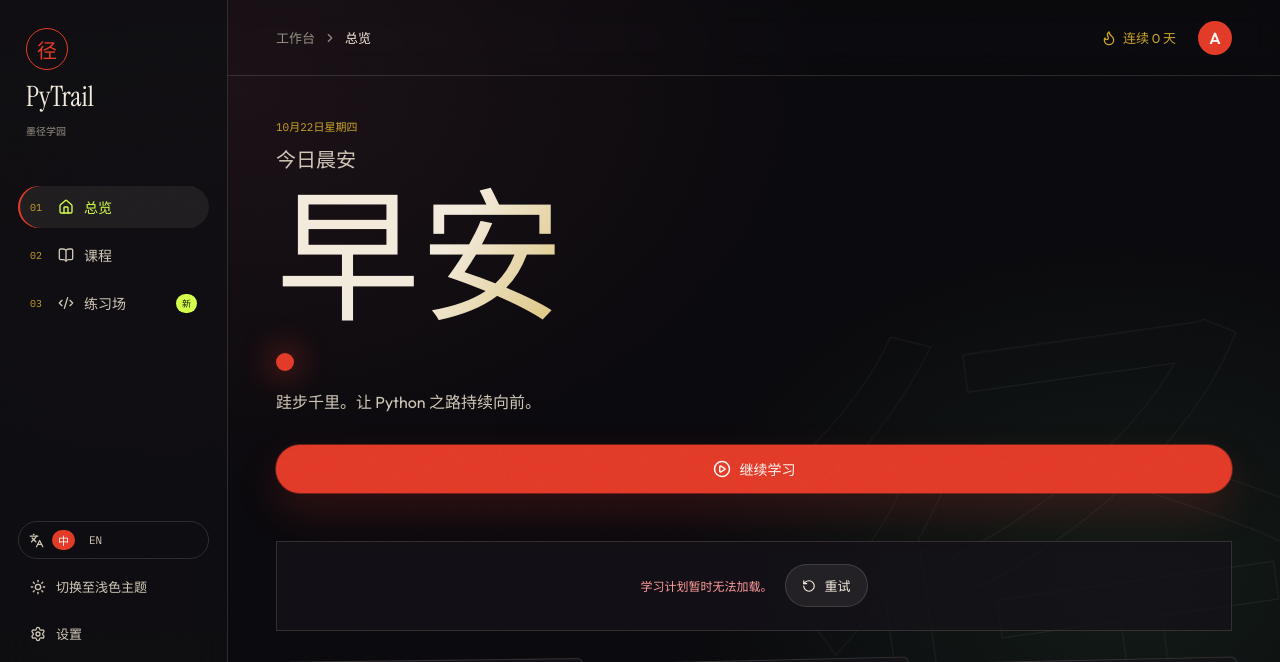
Test case: on-demand course and lesson workflow › retries a failed dashboard request
Expected: the text "学习计划暂时无法加载。" is shown, left=640, top=577, right=772, bottom=594
Click the button "重试" at (826, 586), box left=784, top=564, right=868, bottom=607
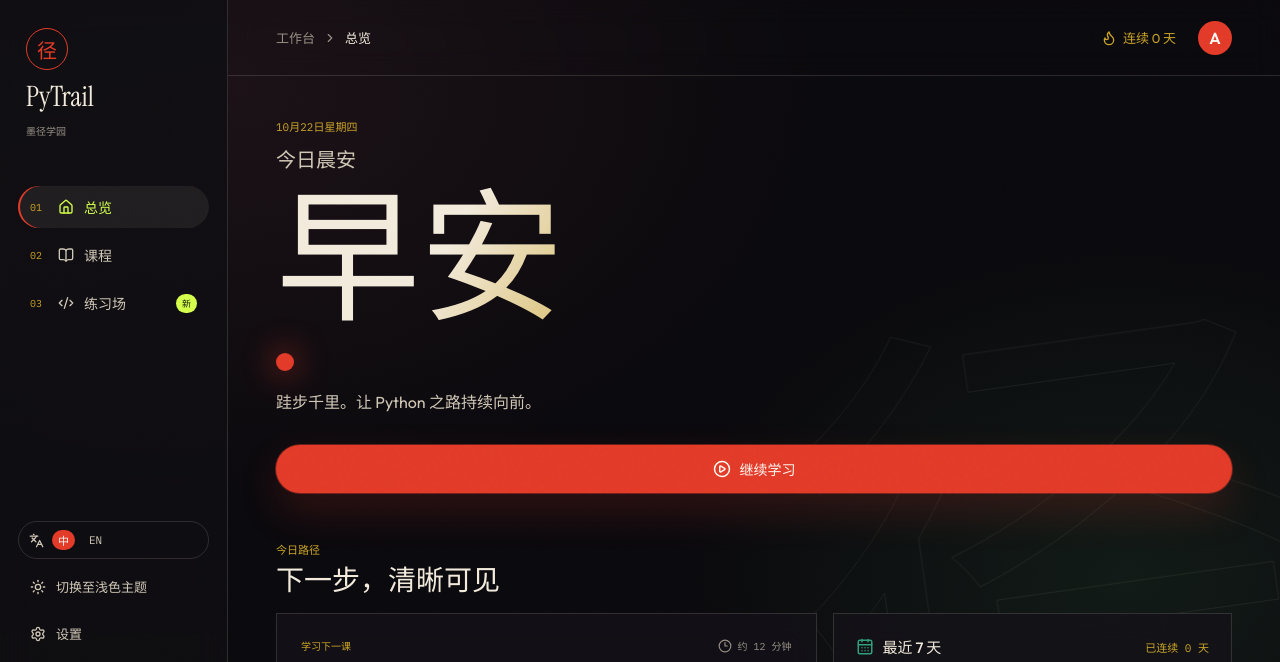
Result: the heading "下一步，清晰可见" is shown at left=276, top=562, right=500, bottom=599
